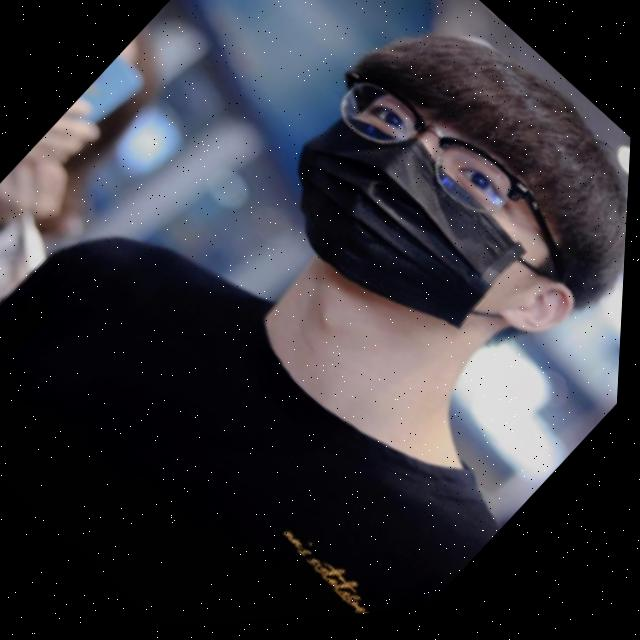Mask: (247, 79, 601, 429)
